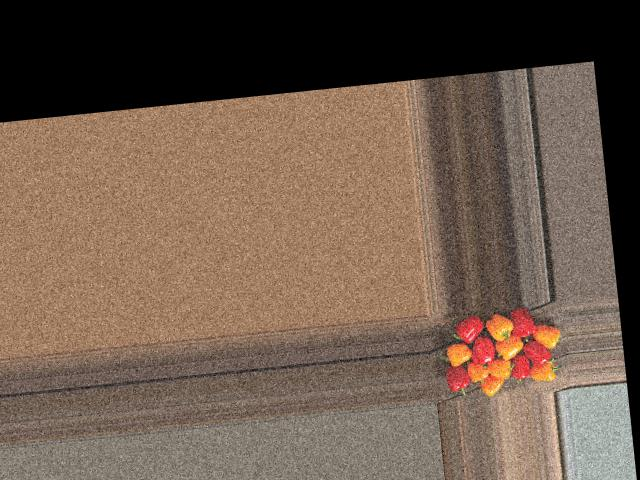bell_pepper: (524, 317, 562, 351)
